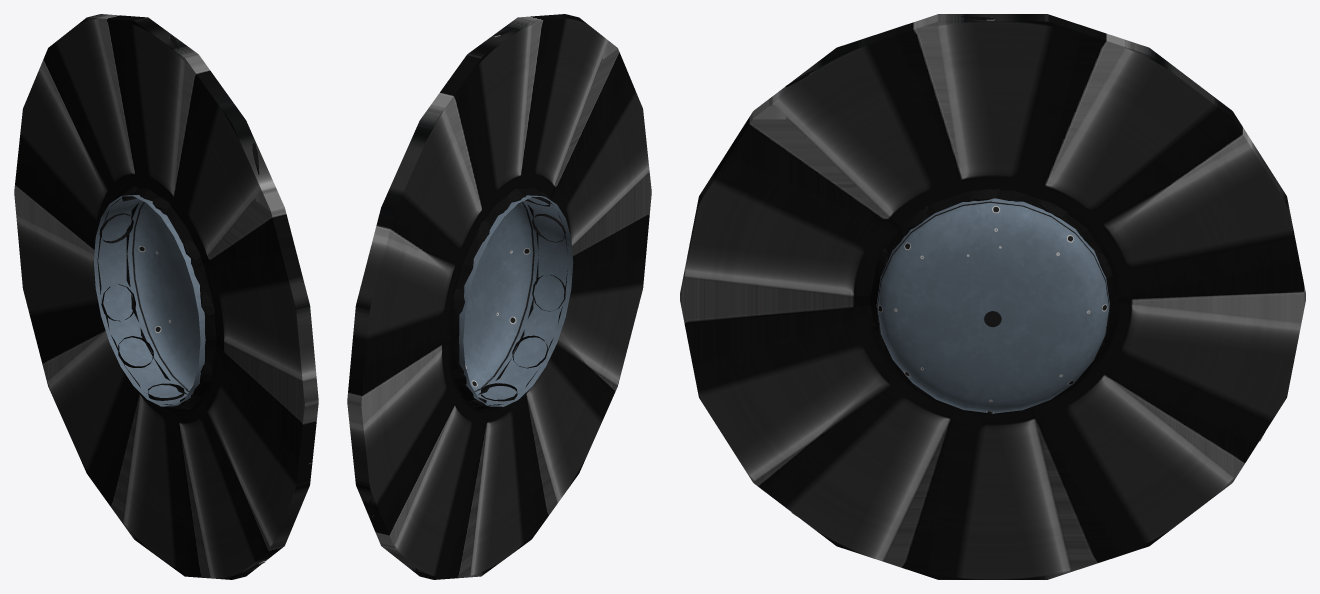
The model's file is H155_weijiyi001.FBX.
3 views of the same model, side by side, from view 1: azimuth 30°, elevation 25°; view 2: azimuth 150°, elevation 25°; view 3: azimuth 270°, elevation 25° (orthographic). The views are drawn at different scales.
Parts seen in each view (by area): view 1: H155_weijiyi_xuying, H155_weijiyi; view 2: H155_weijiyi_xuying, H155_weijiyi; view 3: H155_weijiyi_xuying, H155_weijiyi.
Boxes of the visible parts, x1,y1,x2,y2 form: H155_weijiyi_xuying: (14, 14, 318, 579); H155_weijiyi: (94, 35, 311, 572); H155_weijiyi_xuying: (347, 14, 651, 579); H155_weijiyi: (355, 27, 573, 570); H155_weijiyi_xuying: (680, 14, 1305, 579); H155_weijiyi: (712, 16, 1291, 516).
Bounding box in the file's own units: 0.1328 × 1.06 × 1.07.
